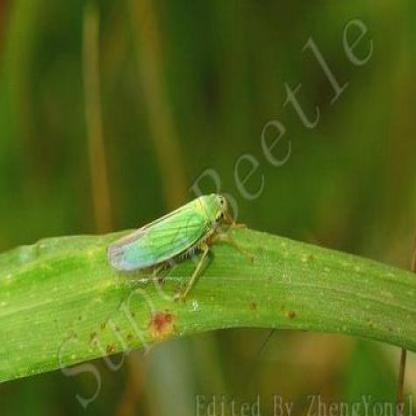Green-Leafhopper: (102, 191, 235, 312)
